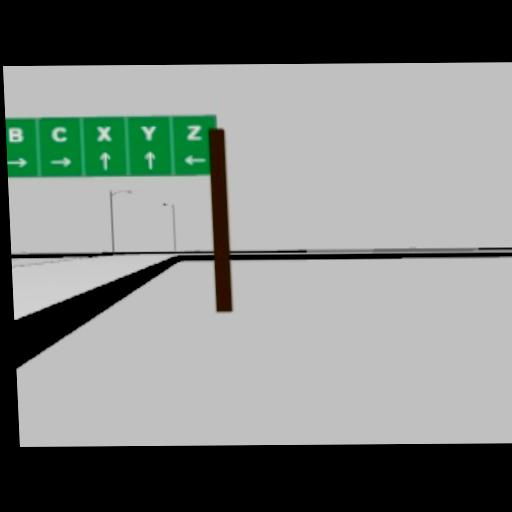B: (7, 125, 23, 142)
C: (48, 125, 68, 142)
Left: (182, 153, 206, 165)
Right: (48, 156, 72, 166), (7, 156, 29, 166)
Straight: (98, 150, 111, 169), (143, 149, 156, 168)
X: (95, 123, 113, 142)
Y: (140, 122, 158, 140)
Z: (184, 124, 202, 139)
